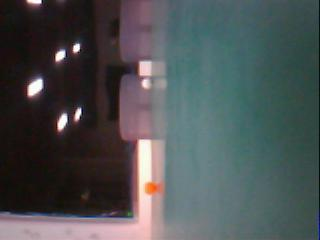oball: (143, 181, 156, 195)
